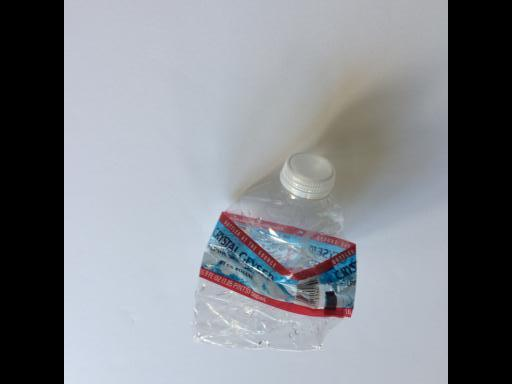plastic: (192, 150, 357, 353)
